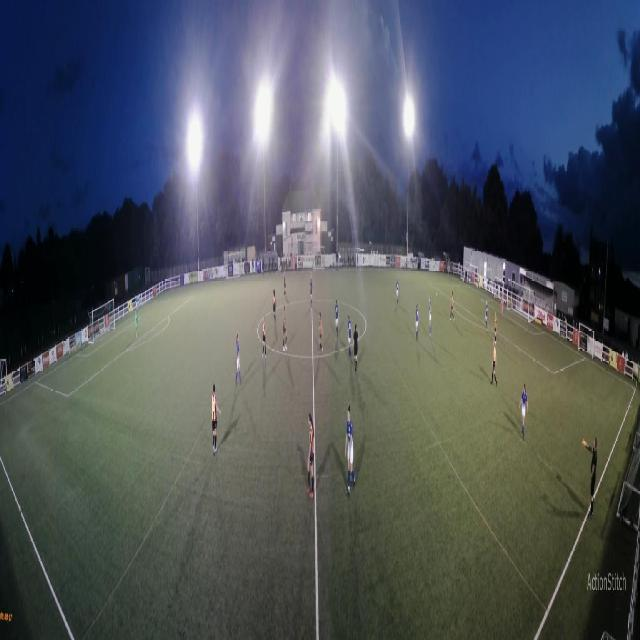ball: (436, 293, 438, 298)
player: (345, 405, 356, 495), (211, 384, 221, 456), (307, 412, 315, 500), (235, 333, 243, 387), (491, 340, 498, 388), (353, 323, 360, 371), (347, 313, 353, 360), (318, 311, 324, 355), (283, 304, 288, 352), (262, 316, 267, 358), (335, 299, 340, 337), (428, 297, 432, 341), (450, 291, 455, 323), (415, 304, 419, 342), (134, 310, 139, 340), (273, 289, 277, 323), (310, 278, 314, 310), (283, 270, 287, 300), (395, 278, 399, 306), (494, 311, 497, 343), (501, 298, 505, 320)
